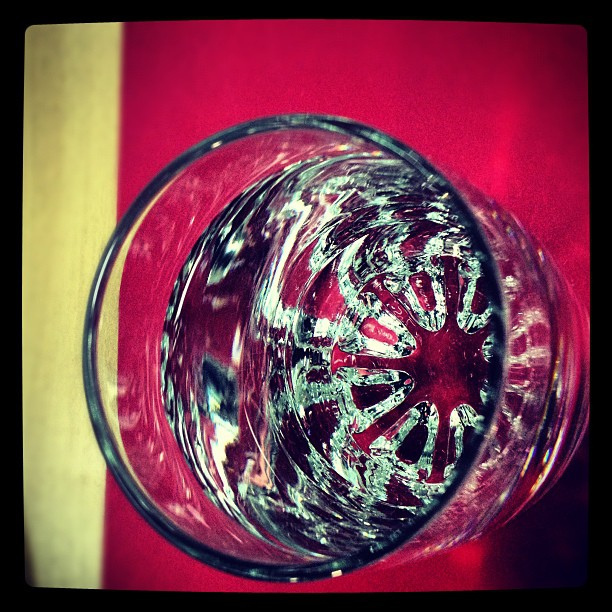glass of water: (90, 111, 569, 579)
